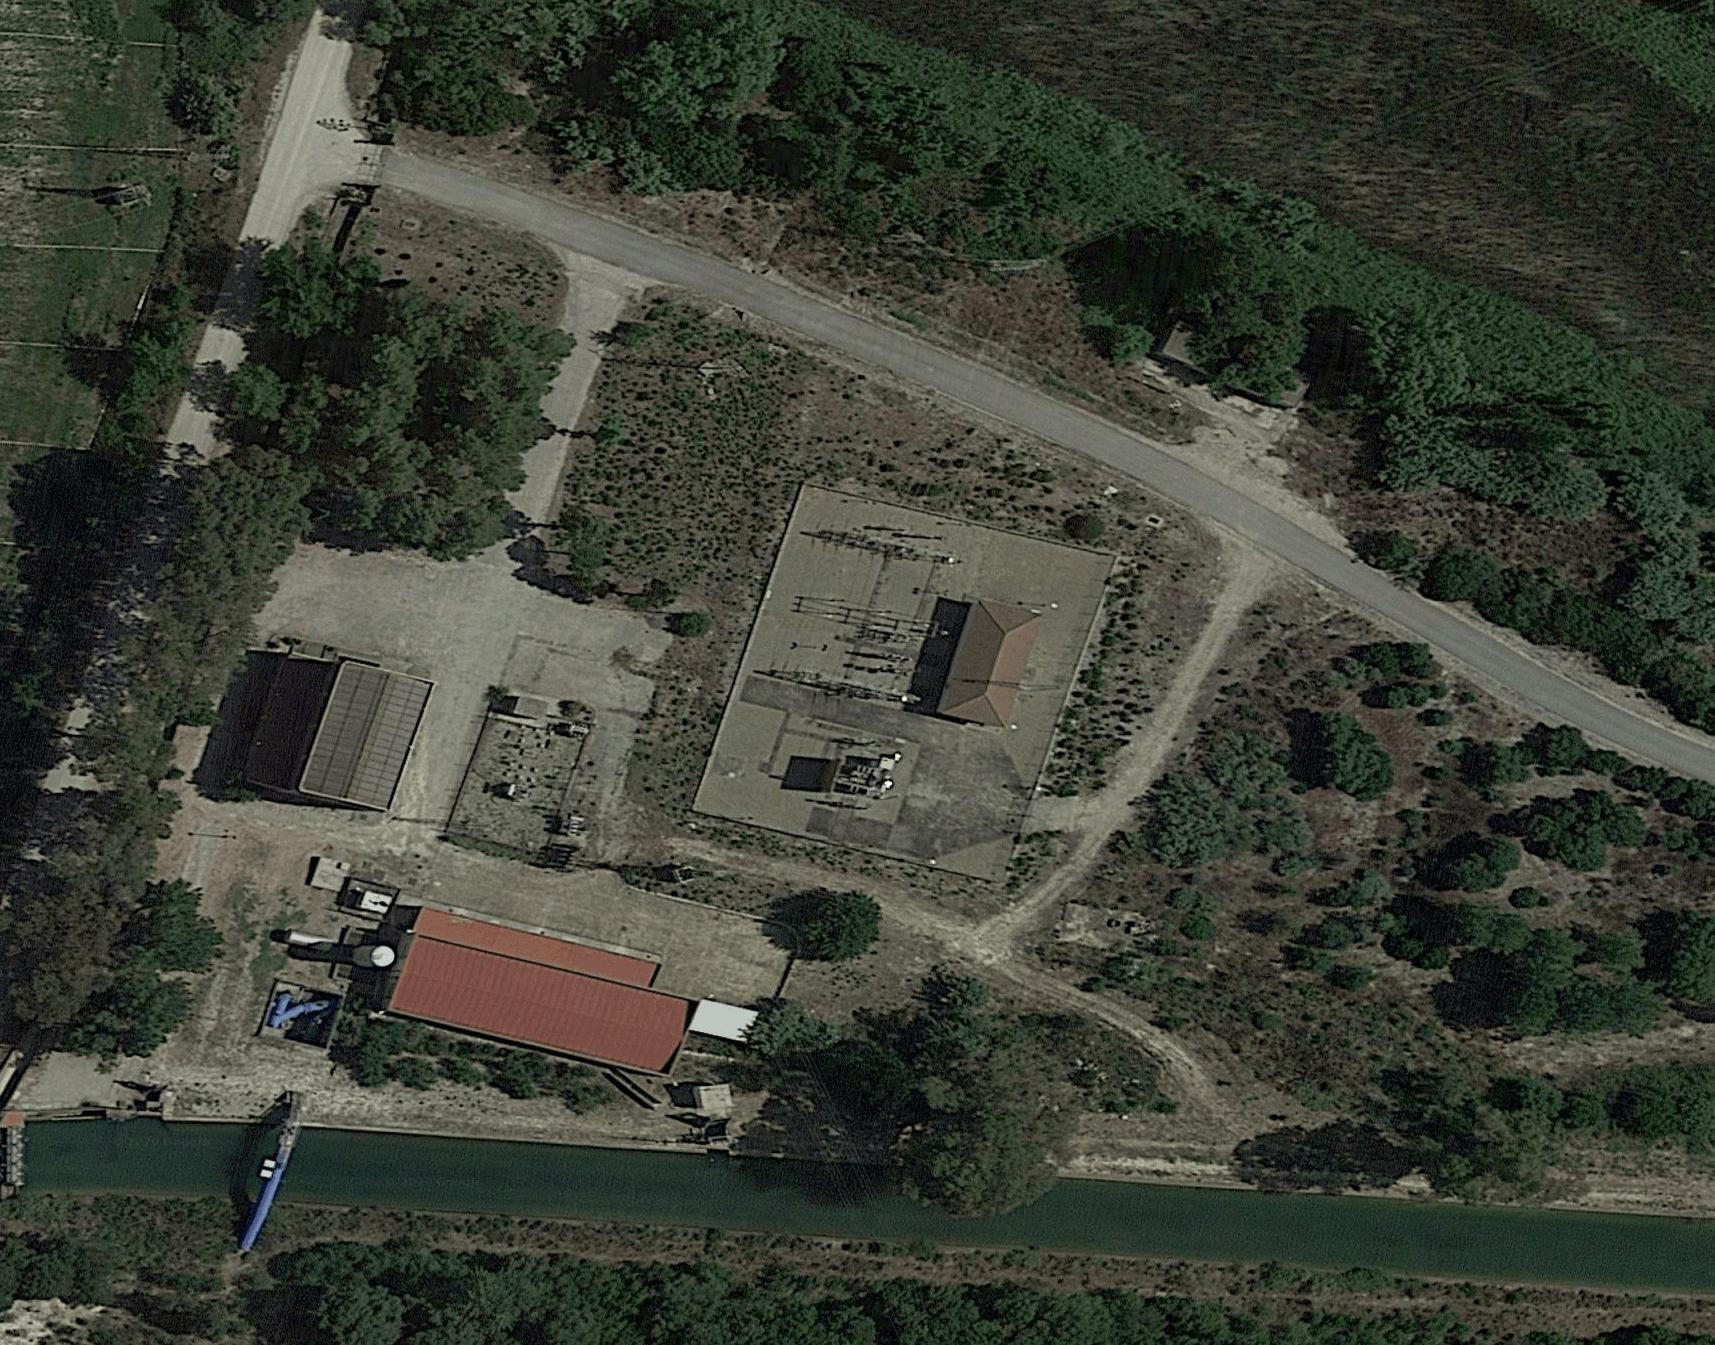substation: (734, 511, 972, 817)
